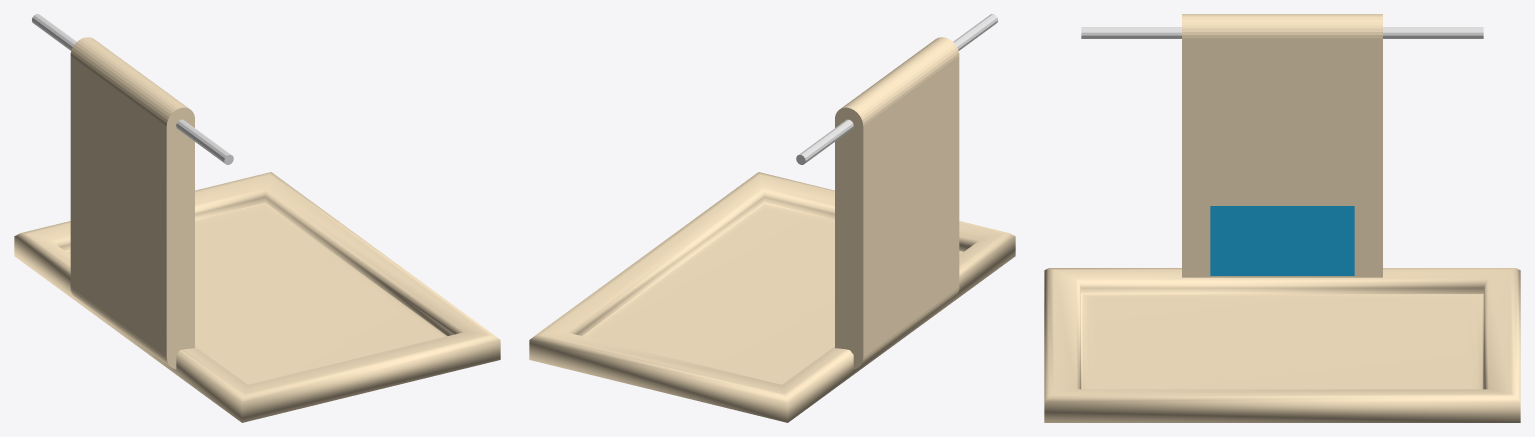
3 renders of one model, left to right at view 1: azimuth 30°, elevation 25°; view 2: azimuth 150°, elevation 25°; view 3: azimuth 270°, elevation 25°, orthographic. The views are drawn at different scales.
Parts seen in each view (by area): view 1: H-14; view 2: H-14; view 3: H-14.
Boxes of the visible parts, left/top/right/bottom form: H-14: left=14, top=14, right=500, bottom=422; H-14: left=529, top=14, right=1015, bottom=422; H-14: left=1044, top=14, right=1520, bottom=422.
Size of the model in its own units: 29.56 by 28.01 by 43.5.
